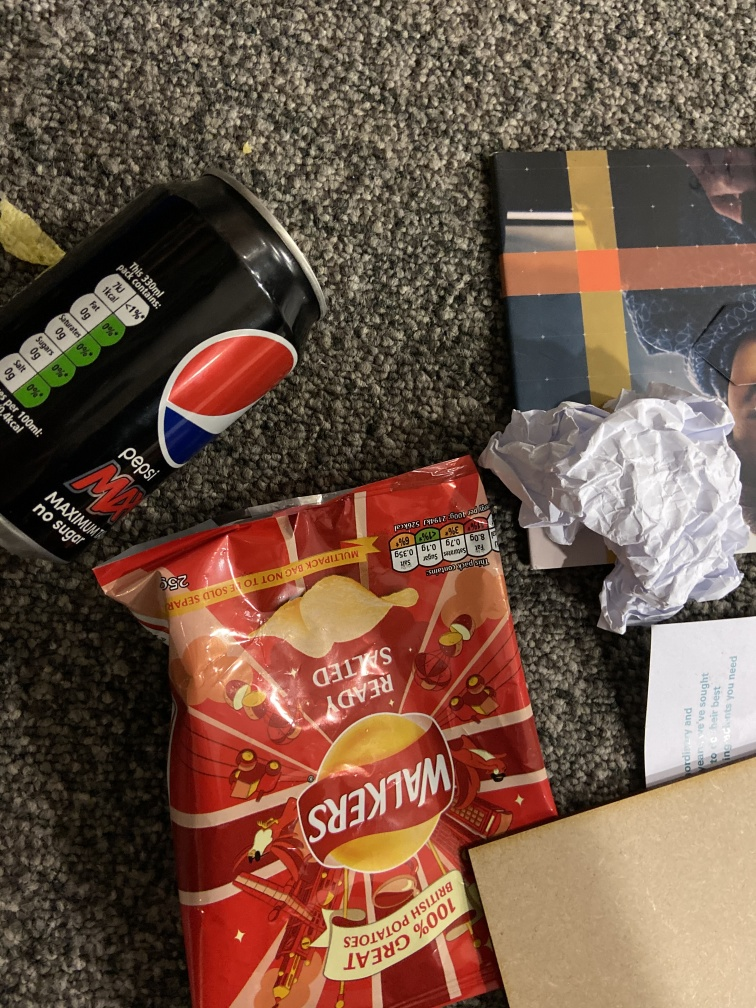can_black: (1, 163, 335, 569)
paper_white: (475, 387, 756, 640)
